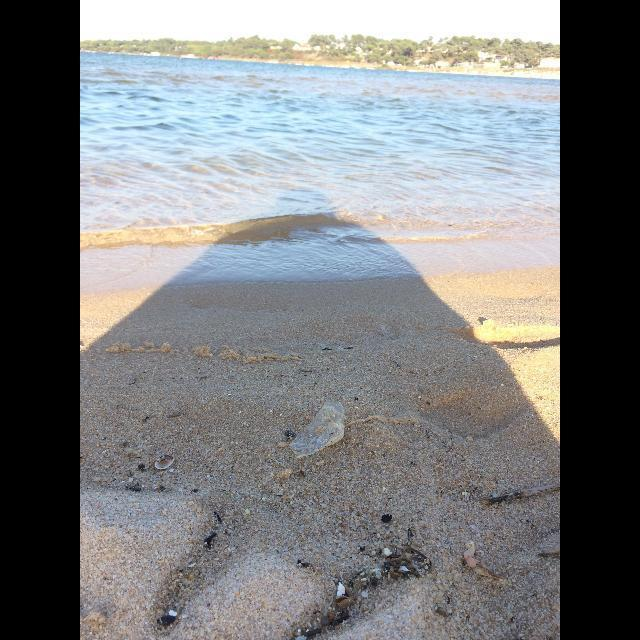Plastic: (290, 402, 344, 458)
